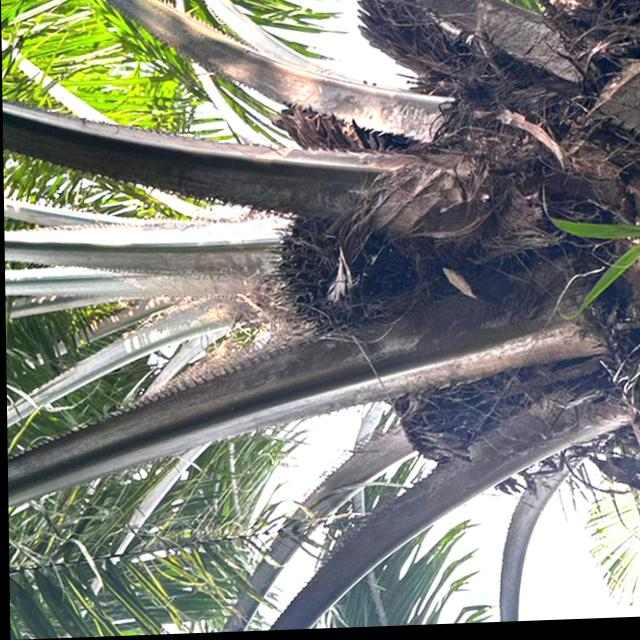ripe: (254, 198, 428, 353)
